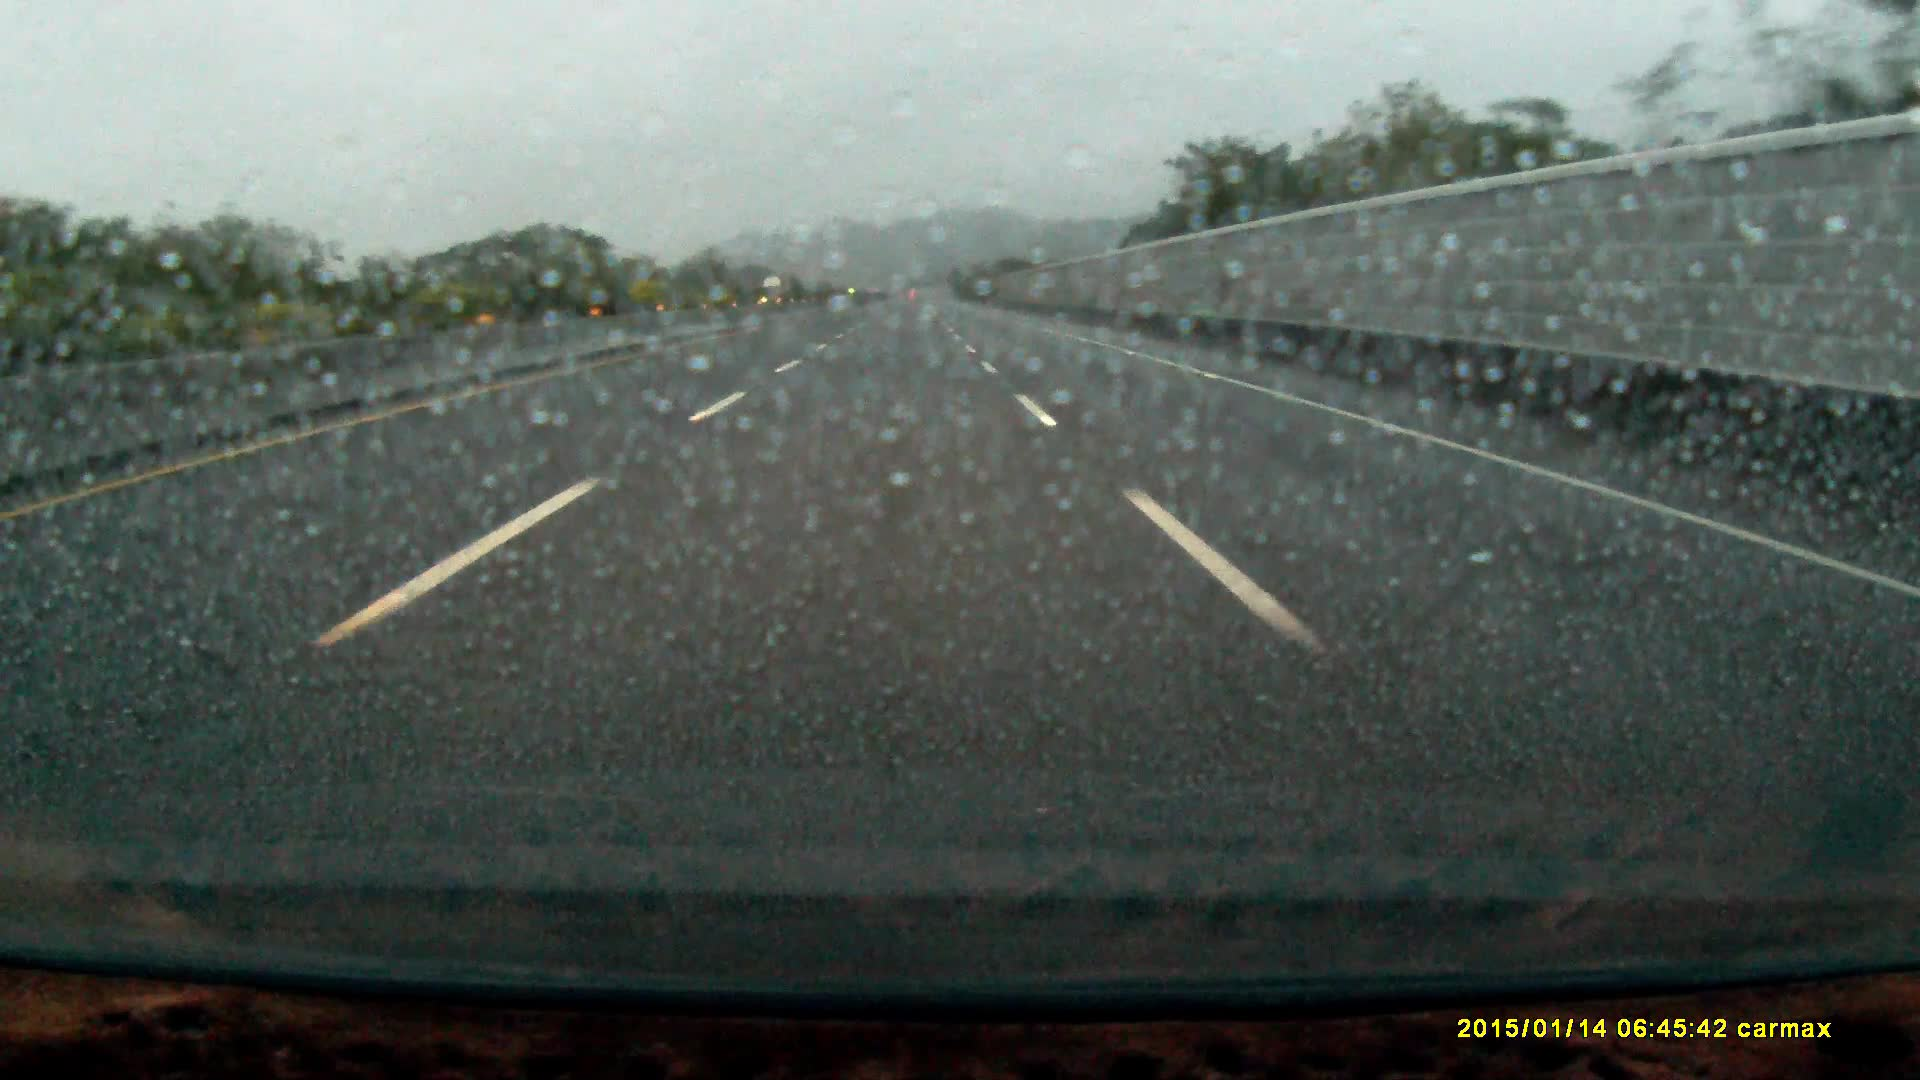vehicle: (762, 280, 789, 307)
